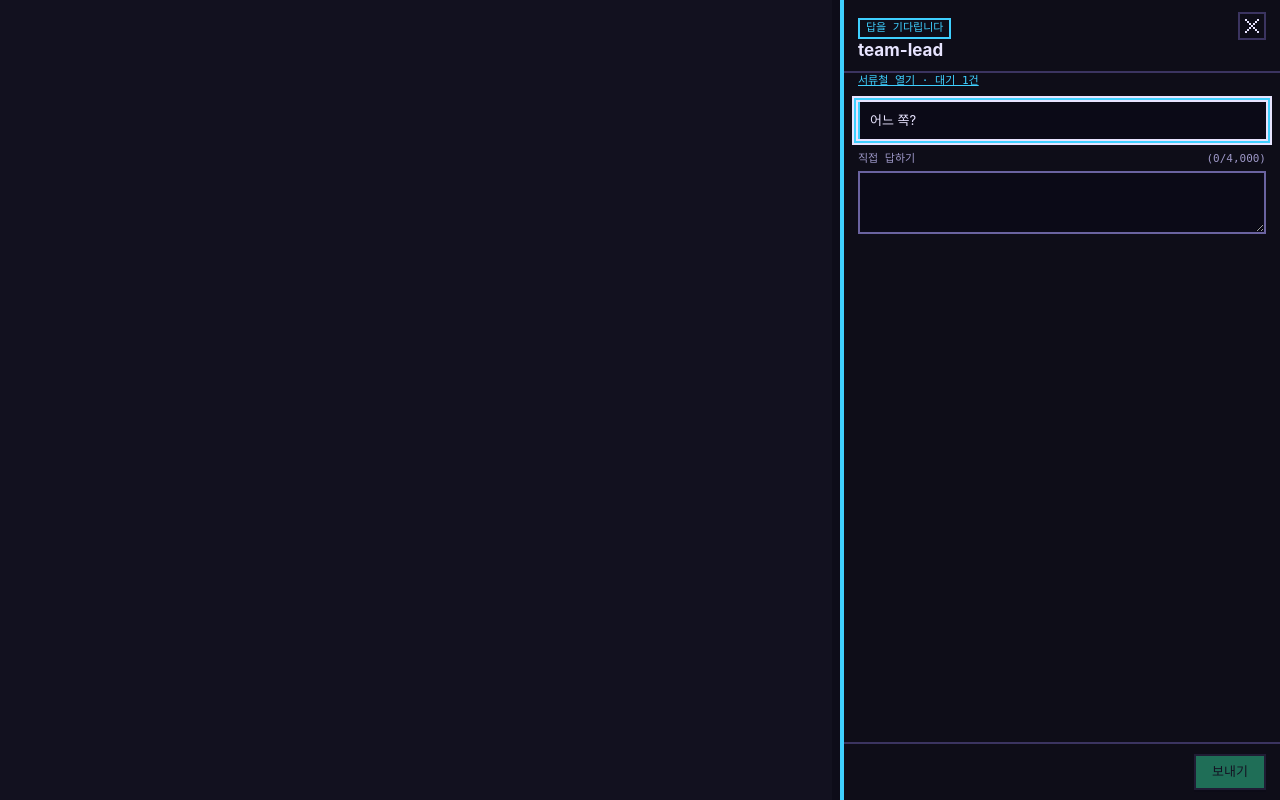
B335 — 답을 기다립니다 글자·서류철 따로 열기 › ② 답 칸에 대기 보고서가 있으면 '서류철 열기 · 대기 n건'(B336) → 서류철로
Click the button "서류철 열기 · 대기 1건".
click(918, 82)  # box [858,73,979,90]
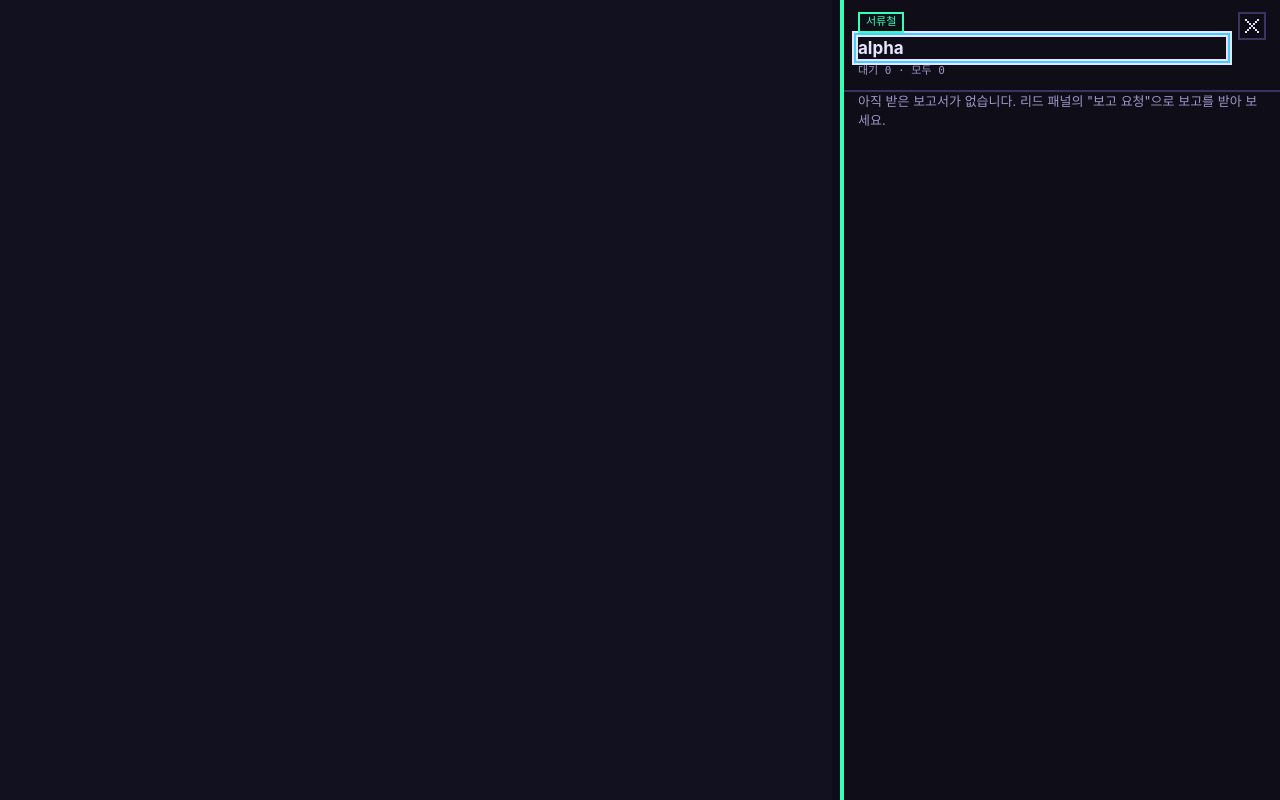
Now the heading "alpha" is shown, box [858,36,1226,59]
